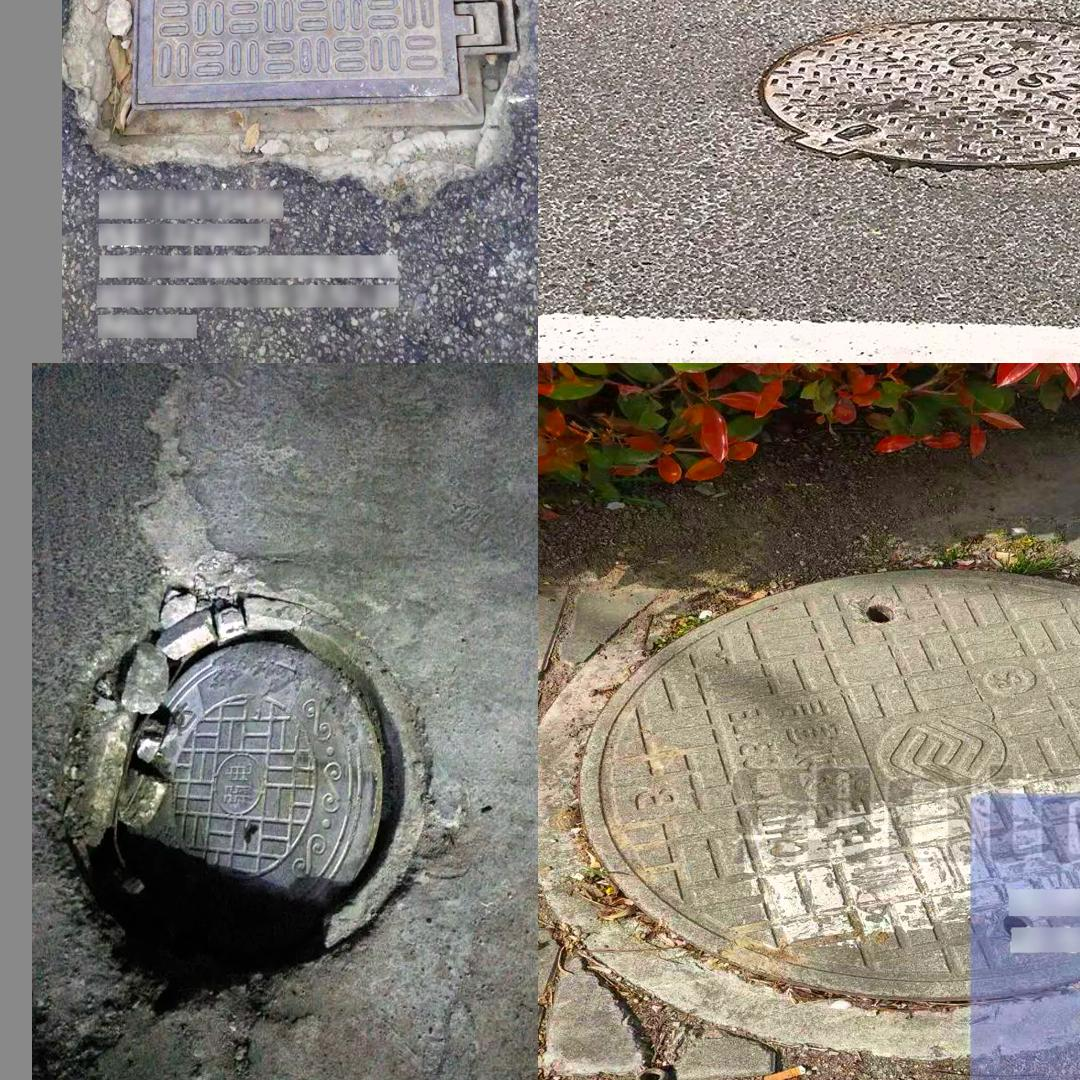circle: (555, 546, 1080, 1039), (47, 592, 443, 986), (86, 0, 522, 167), (749, 7, 1080, 190)
